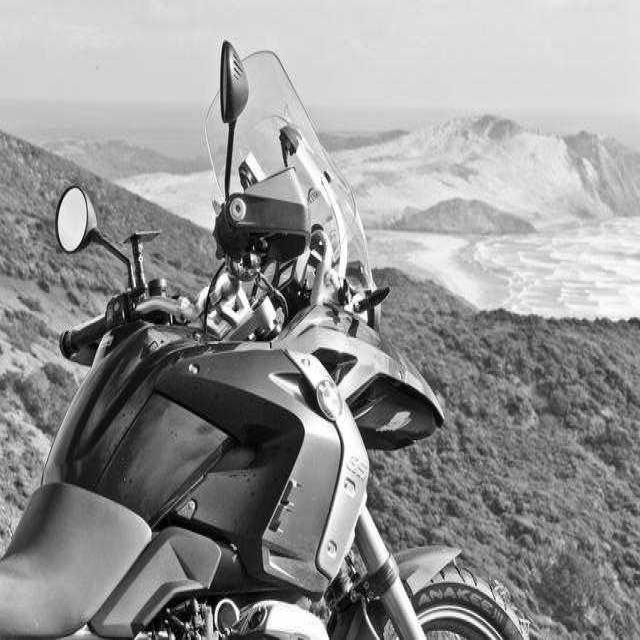Motorcycle: (0, 41, 524, 640)
